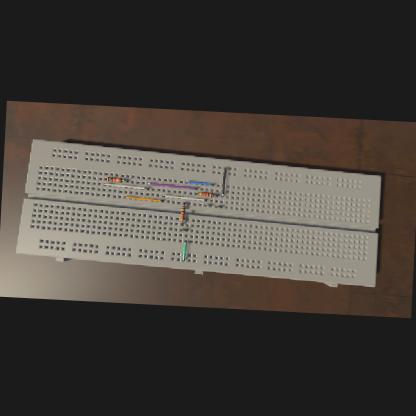breadboard: (14, 137, 382, 288)
resistor: (198, 190, 214, 196), (179, 204, 185, 219), (106, 175, 121, 181)
wire: (146, 180, 196, 188), (102, 182, 148, 187), (162, 194, 206, 199), (122, 195, 162, 200), (220, 166, 225, 196), (184, 180, 212, 184), (182, 239, 186, 259), (204, 203, 210, 205), (122, 178, 127, 180), (180, 228, 186, 229), (214, 205, 220, 206), (182, 201, 184, 204), (181, 219, 182, 222), (213, 194, 216, 195), (196, 192, 198, 193), (104, 177, 106, 178)
